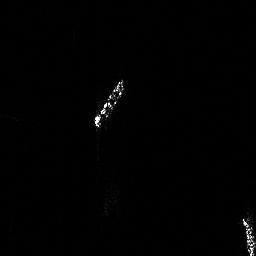ship: (90, 74, 129, 132), (237, 213, 256, 256)
